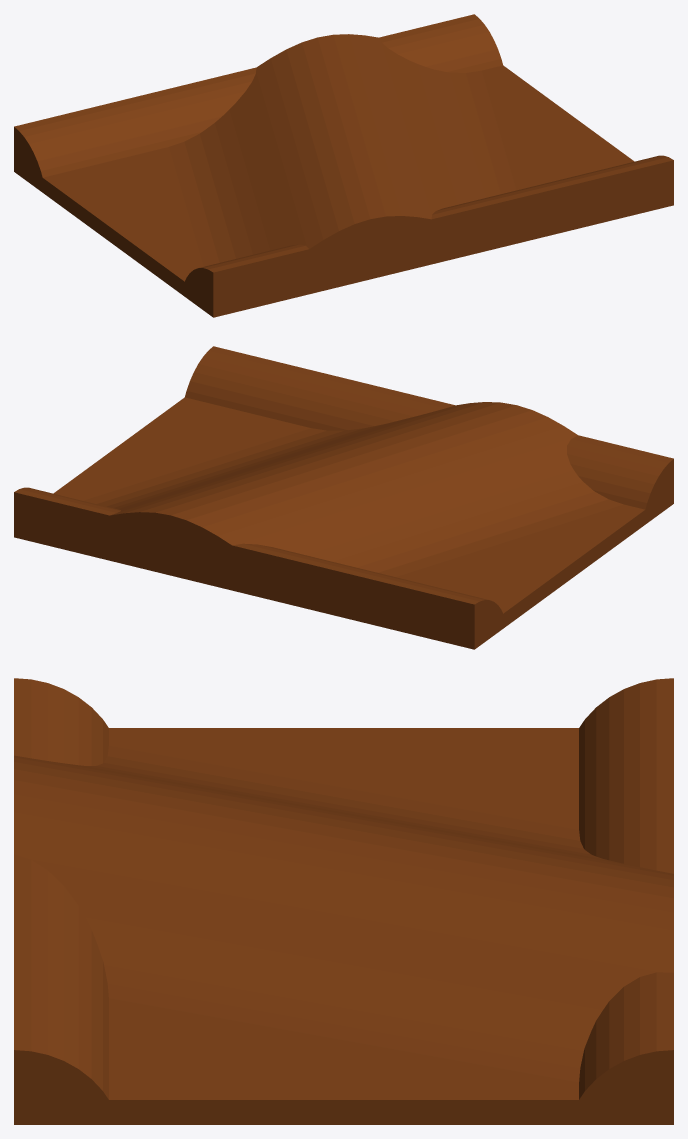
Rendered from rolling_wall.glb.
The picture shows the model from 3 angles, top to bottom: view 1: azimuth 30°, elevation 25°; view 2: azimuth 150°, elevation 25°; view 3: azimuth 270°, elevation 25°; orthographic projection. The views are drawn at different scales.
Parts seen in each view (by area): view 1: crest:pbr, floor:pbr, berm_e:pbr, trim:pbr, berm_w:pbr; view 2: crest:pbr, floor:pbr, berm_w:pbr, trim:pbr, berm_e:pbr; view 3: crest:pbr, floor:pbr, berm_w:pbr, berm_e:pbr, trim:pbr.
Boxes of the visible parts, box(x1,y1,x2,y2) form: crest:pbr: box(169, 34, 516, 266); floor:pbr: box(14, 65, 673, 317); berm_e:pbr: box(14, 14, 502, 177); trim:pbr: box(14, 127, 673, 317); berm_w:pbr: box(199, 155, 673, 272); crest:pbr: box(83, 402, 622, 576); floor:pbr: box(14, 397, 673, 649); berm_w:pbr: box(185, 346, 673, 509); trim:pbr: box(14, 459, 673, 649); berm_e:pbr: box(14, 487, 488, 604); crest:pbr: box(14, 745, 673, 1082); floor:pbr: box(14, 728, 673, 1124); berm_w:pbr: box(14, 678, 108, 1099); berm_e:pbr: box(579, 678, 673, 1099); trim:pbr: box(14, 1050, 673, 1124).
Bounding box in the file's own units: 32 × 4 × 24.
